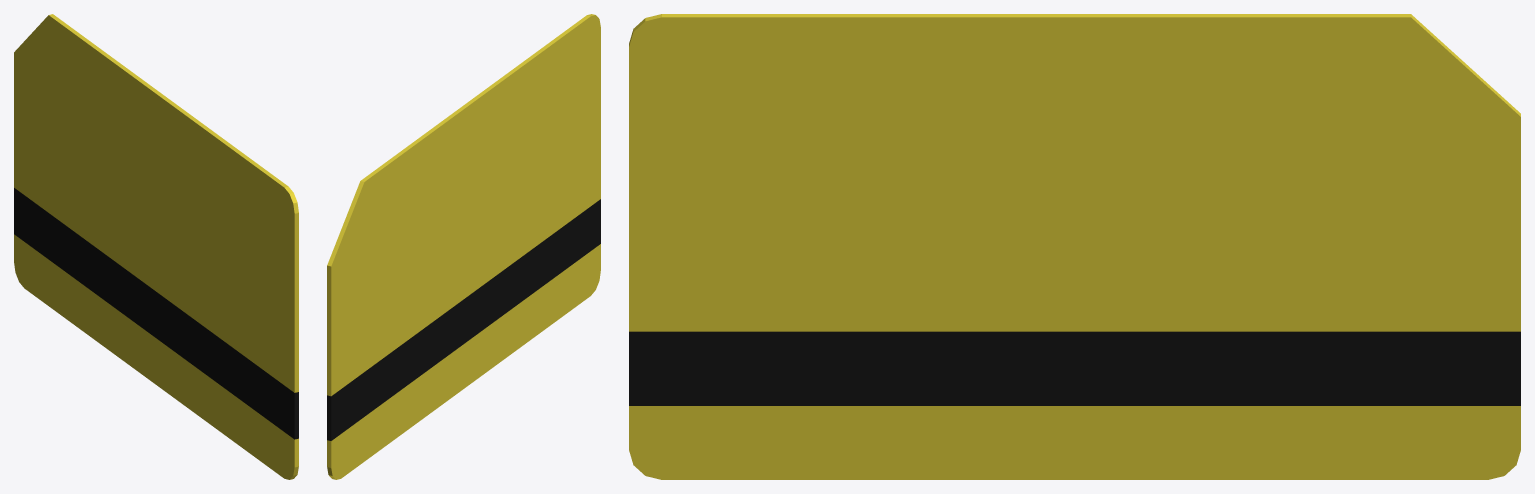
Rendered from TarjetaModulo.fbx.
3 views of the same model, side by side, from view 1: azimuth 30°, elevation 25°; view 2: azimuth 150°, elevation 25°; view 3: azimuth 270°, elevation 25° (orthographic). The views are drawn at different scales.
Visible parts, largest first — view 1: Cube; view 2: Cube; view 3: Cube.
Boxes of the visible parts, x1,y1,x2,y2 form: Cube: (14, 14, 298, 479); Cube: (327, 14, 600, 479); Cube: (629, 14, 1520, 479).
Size of the model in its own units: 3.12 by 200 by 349.
